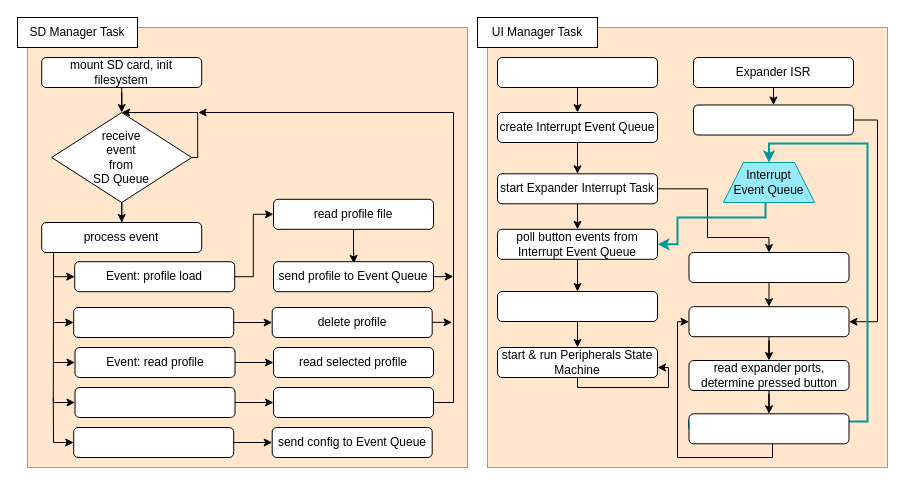
Some shapes in this 905 by 485 pixel diagram are drawn without their labels. Here are the shapes that lost their labels. From the top down, the centre of each, then its label:
pixel 577 72: setup GPIO expander, LEDs, buttons & display
pixel 773 119: notify Expander Interrupt Task about interrupt event
pixel 768 267: Expander Interrupt Task
pixel 153 322: Event: profile delete
pixel 577 306: poll events from Event Queue
pixel 768 321: wait for interrupt event notification
pixel 154 402: Event: new profile
pixel 353 402: save profile data
pixel 153 442: Event: load config
pixel 768 428: send event to Interrupt Event Queue
